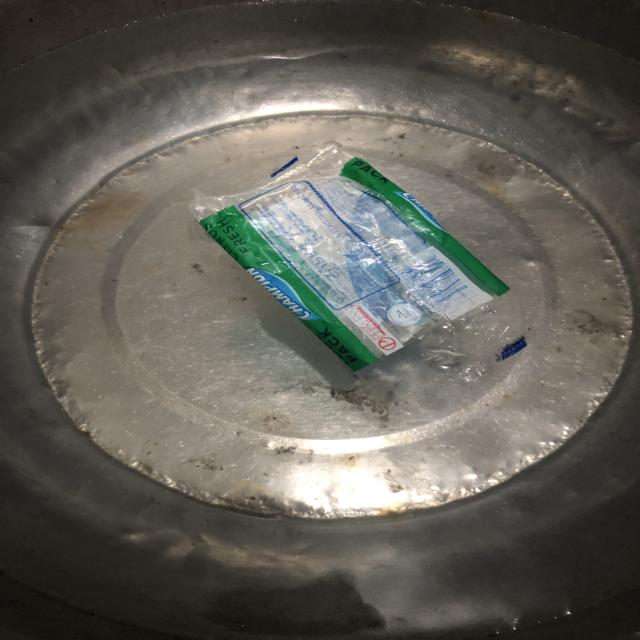Plastic Wrapper: (158, 114, 594, 421)
